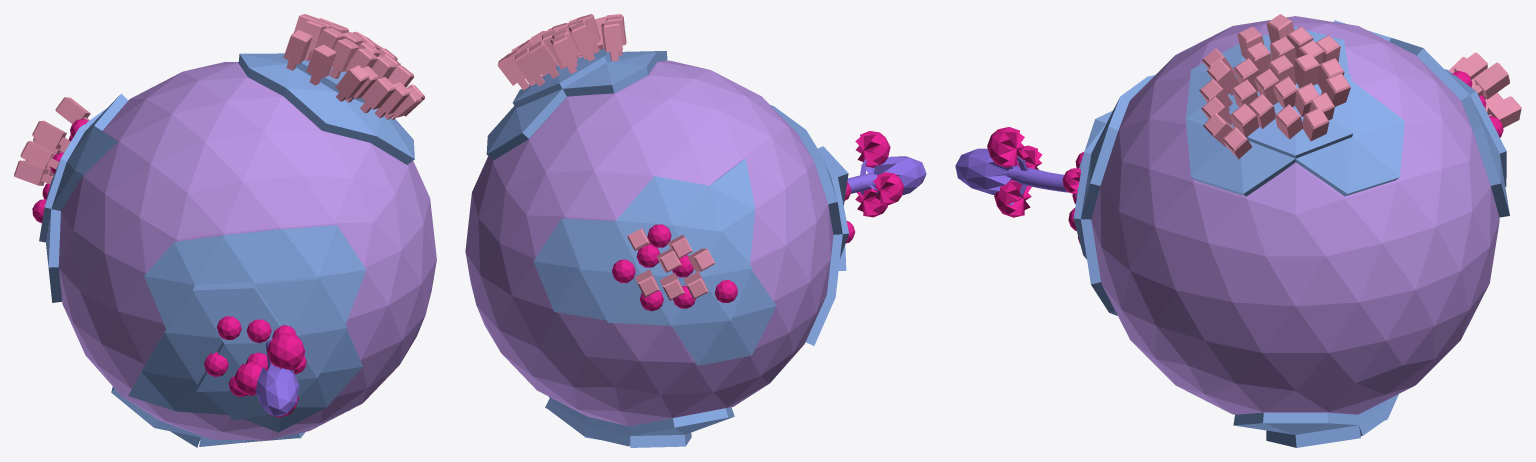
File: Planete.glb
3 views of the same model, side by side, from view 1: azimuth 30°, elevation 25°; view 2: azimuth 150°, elevation 25°; view 3: azimuth 270°, elevation 25° (orthographic). The views are drawn at different scales.
Parts seen in each view (by area): view 1: eau, terre, GrandArbre, buisson.016, arbre.013, arbre.025, arbre.016, arbre.014, buisson.015, arbre.033, arbre.010, arbre.032 (+9 smaller); view 2: eau, terre, GrandArbre, buisson.016, buisson.015, arbre.004, arbre.025, arbre.026, arbre.024, buisson.017, arbre.003, buisson.014; view 3: eau, terre, GrandArbre, buisson.016, buisson.017, arbre.027, arbre.005, arbre.029, arbre.003, arbre.022, arbre.002, arbre.020 (+2 smaller).
Boxes of the visible parts, box(x1,y1,x2,y2) form: eau: box(58, 61, 436, 440); terre: box(39, 53, 414, 447); GrandArbre: box(255, 339, 299, 415); buisson.016: box(266, 332, 305, 369); arbre.013: box(306, 44, 336, 85); arbre.025: box(283, 29, 312, 70); arbre.016: box(360, 77, 395, 113); arbre.014: box(335, 65, 369, 101); buisson.015: box(234, 361, 265, 395); arbre.033: box(32, 120, 70, 148); arbre.010: box(329, 38, 358, 78); arbre.032: box(20, 141, 58, 169); eau: box(465, 60, 833, 426); terre: box(486, 49, 848, 447); GrandArbre: box(847, 156, 926, 195); buisson.016: box(855, 131, 890, 167); buisson.015: box(873, 172, 904, 204); arbre.004: box(529, 40, 558, 78); arbre.025: box(601, 21, 622, 61); arbre.026: box(550, 34, 577, 73); arbre.024: box(569, 21, 595, 61); buisson.017: box(855, 188, 888, 217); arbre.003: box(515, 48, 544, 86); buisson.014: box(647, 224, 671, 247); eau: box(1091, 16, 1499, 414); terre: box(1073, 20, 1509, 447); GrandArbre: box(955, 148, 1069, 205); buisson.016: box(987, 127, 1024, 167); buisson.017: box(994, 177, 1031, 217); arbre.027: box(1473, 62, 1509, 99); arbre.005: box(1294, 53, 1319, 88); arbre.029: box(1487, 96, 1521, 127); arbre.003: box(1321, 73, 1350, 106); arbre.022: box(1275, 104, 1303, 139); arbre.002: box(1302, 108, 1329, 141); arbre.020: box(1230, 103, 1258, 137).
Size of the model in its own units: 3.13 by 3.66 by 4.34.
